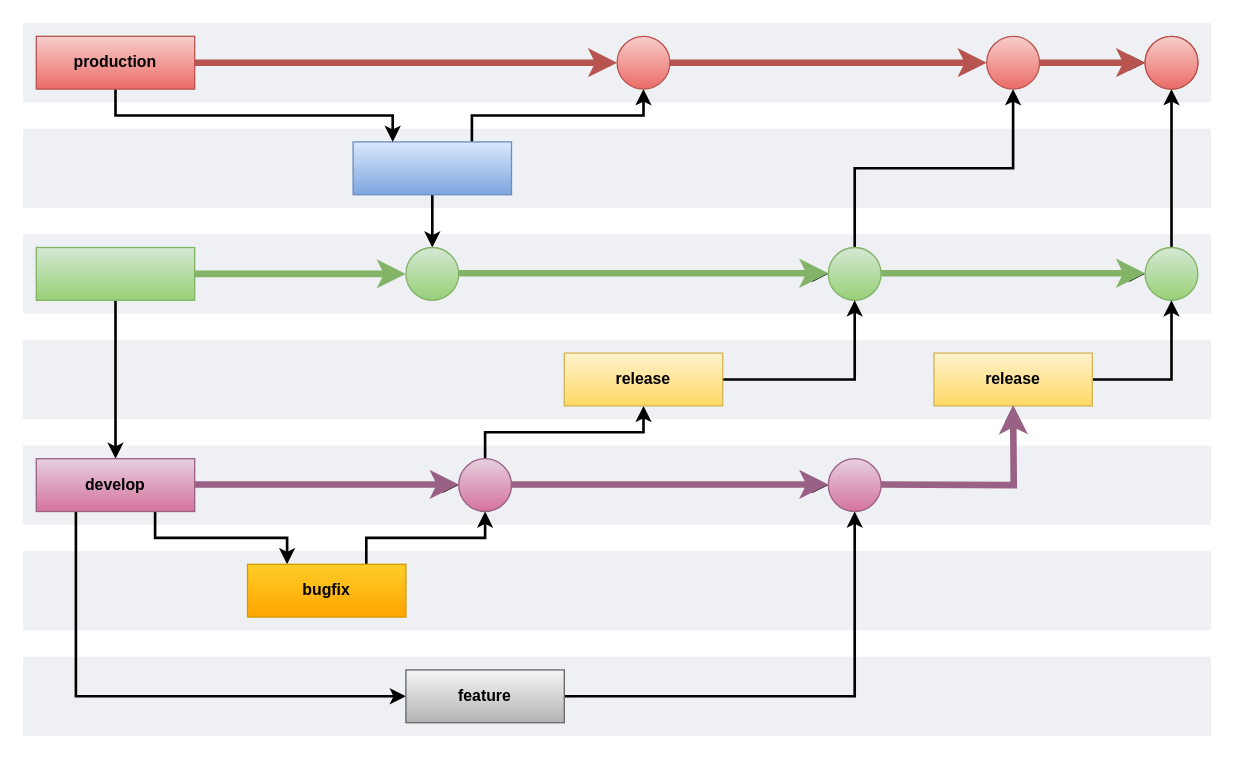
Some shapes in this 1233 by 758 pixel diagram are drawn without their labels. Each missing label, with the box of its shape:
hotfix: (352, 141, 512, 195)
master: (35, 246, 195, 300)
